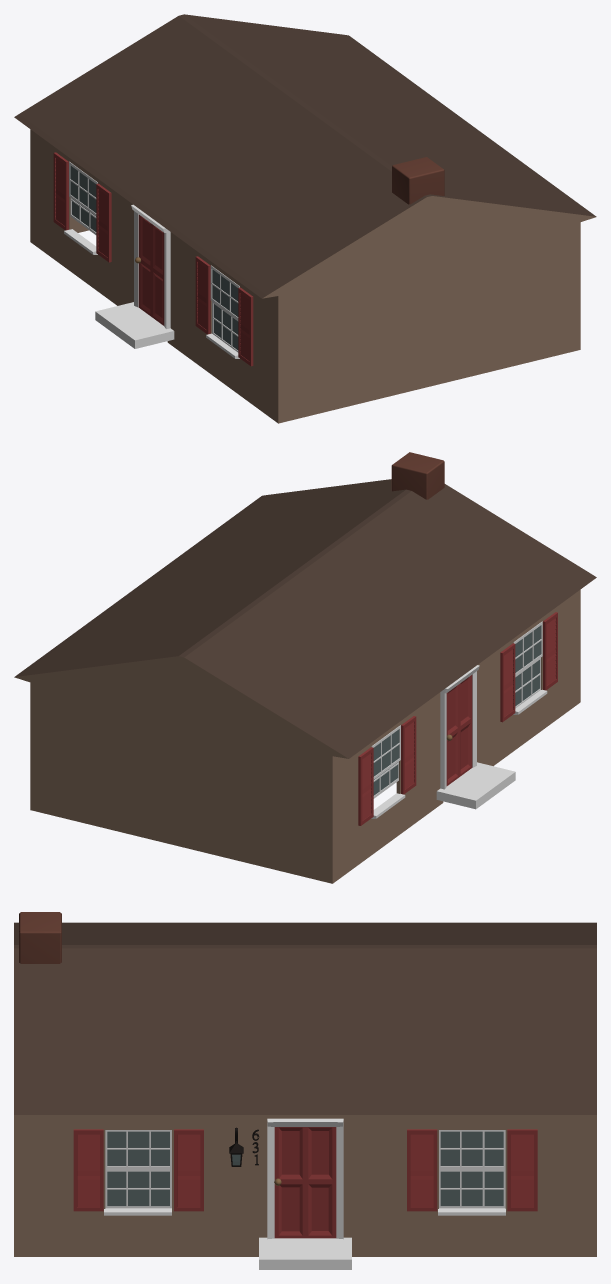
The model's file is doggo_house_test_1.fbx.
The picture shows the model from 3 angles, top to bottom: view 1: azimuth 30°, elevation 25°; view 2: azimuth 150°, elevation 25°; view 3: azimuth 270°, elevation 25°; orthographic projection. The views are drawn at different scales.
Parts seen in each view (by area): view 1: house_base, front_door, window_panel_r (×2), window_panel_l (×2), back_door_stoop, chimney1, window_glass (×2), front_door_frame, window_glass1; view 2: house_base, front_door, window_panel_l (×2), window_panel_r (×2), back_door_stoop, chimney1, window_glass (×2), front_door_frame, window_glass1; view 3: house_base, front_door, window_panel_l (×2), window_panel_r (×2), window_glass1 (×2), window_glass (×2), front_door_stoop, front_door_frame, chimney1, window_boxes (×2), window_boxes1 (×2), sill_4 (+1 smaller).
Boxes of the visible parts, box(x1,y1,x2,y2) form: house_base: box(14, 14, 596, 423); front_door: box(138, 214, 164, 325); window_panel_r (×2): box(96, 183, 253, 366); window_panel_l (×2): box(53, 152, 210, 334); back_door_stoop: box(95, 302, 174, 348); chimney1: box(392, 157, 444, 204); window_glass (×2): box(70, 165, 238, 316); front_door_frame: box(131, 204, 170, 329); window_glass1: box(213, 304, 238, 350); house_base: box(14, 479, 596, 883); front_door: box(446, 675, 472, 785); window_panel_l (×2): box(358, 643, 515, 825); window_panel_r (×2): box(401, 612, 557, 794); back_door_stoop: box(436, 762, 515, 809); chimney1: box(391, 452, 444, 499); window_glass (×2): box(373, 625, 541, 776); front_door_frame: box(440, 665, 479, 789); window_glass1: box(515, 660, 539, 706); house_base: box(14, 922, 596, 1256); front_door: box(274, 1127, 336, 1238); window_panel_l (×2): box(73, 1129, 437, 1211); window_panel_r (×2): box(174, 1129, 537, 1211); window_glass1 (×2): box(107, 1171, 503, 1206); window_glass (×2): box(107, 1131, 503, 1165); front_door_stoop: box(259, 1237, 351, 1269); front_door_frame: box(267, 1118, 343, 1239); chimney1: box(19, 912, 61, 963); window_boxes (×2): box(105, 1130, 505, 1169); window_boxes1 (×2): box(105, 1169, 505, 1208); sill_4: box(438, 1208, 505, 1215).
Bounding box in the file's own units: 46.03 × 24.47 × 52.
